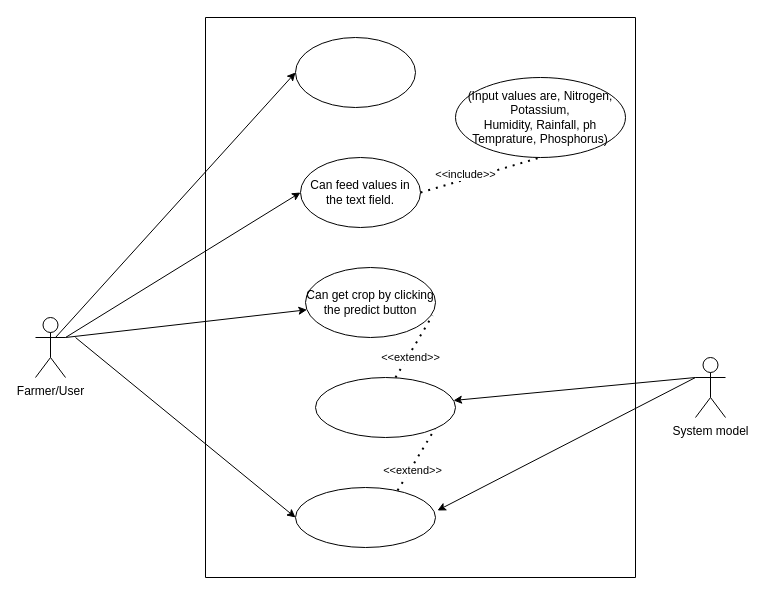
Image size: 766x595. Some labels were removed from this diagram. Here are the shapes that lost their labels. From the top down, the centre of each, then its label:
At (x=355, y=72): "Can open the website".
At (x=385, y=407): "Model Analyses the input values".
At (x=365, y=517): "View the reponses from the system".
